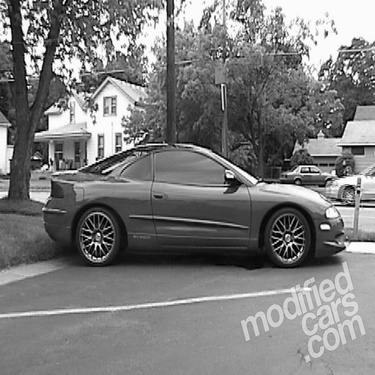car: (38, 131, 351, 275), (322, 163, 375, 204), (279, 159, 336, 190)
